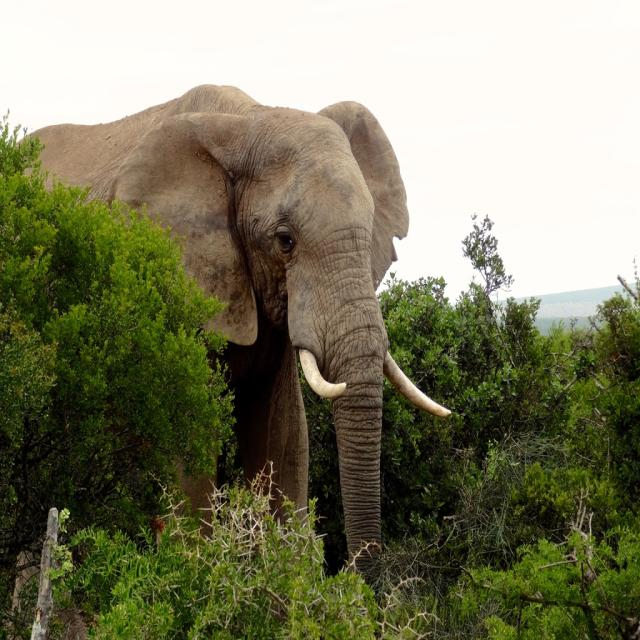Elephant: (12, 81, 452, 586)
